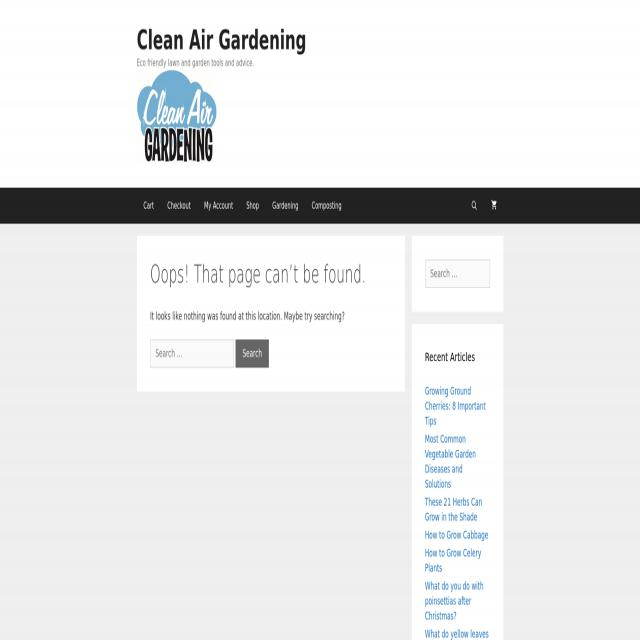button: (137, 69, 217, 164), (305, 188, 349, 224), (197, 188, 240, 224), (265, 188, 305, 224), (161, 188, 197, 224), (235, 340, 269, 368), (240, 188, 266, 224), (137, 188, 161, 224), (464, 188, 484, 224), (484, 188, 504, 224)
field: (150, 340, 234, 368), (425, 260, 490, 288)
